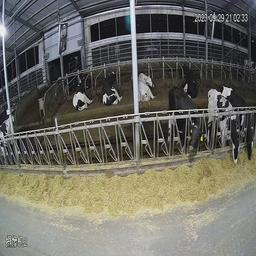cow: (165, 87, 203, 171), (209, 88, 241, 175), (226, 78, 253, 162), (100, 65, 125, 115), (72, 69, 96, 116), (138, 66, 158, 105), (180, 59, 198, 98)
